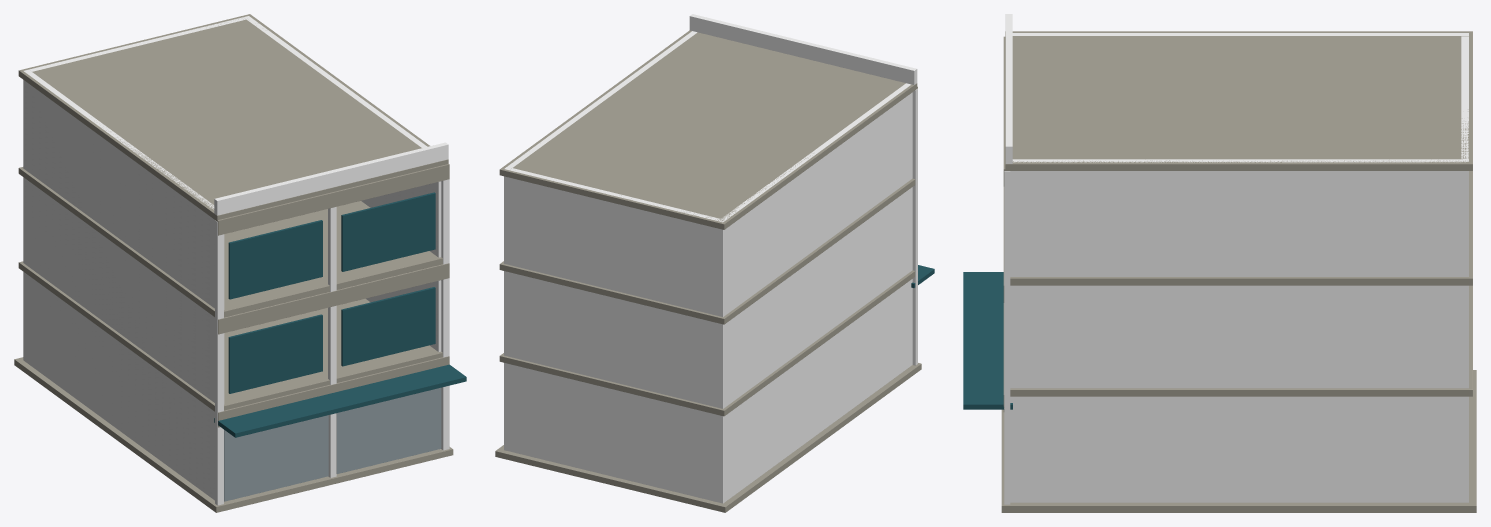
File: shoplot-building.glb
The picture shows the model from 3 angles, left to right: view 1: azimuth 30°, elevation 25°; view 2: azimuth 150°, elevation 25°; view 3: azimuth 270°, elevation 25°; orthographic projection. The views are drawn at different scales.
Visible parts, largest first — view 1: Party_Wall, Flat_Slab.002, Flat_Slab.001, Flat_Slab, Ground_Shutter, Ground_Shutter.001, Ribbon_Window.001, Ribbon_Window.002, Ribbon_Window.003, Ribbon_Window, Modern_Awning, Base (+9 smaller); view 2: Rear_Wall, Party_Wall, Flat_Slab.002, Base, Flat_Parapet, Flat_Slab.001, Flat_Slab, Party_Wall.001, Facade_Pier; view 3: Party_Wall.001, Flat_Slab.002, Base, Modern_Awning, Flat_Slab.001, Flat_Slab, Facade_Pier.002, Party_Wall, Flat_Parapet, Rear_Wall.
Part boxes in pixels (<box>): Party_Wall: <box>23,69,224,500</box>; Flat_Slab.002: <box>18,14,448,220</box>; Flat_Slab.001: <box>18,167,442,317</box>; Flat_Slab: <box>18,261,442,411</box>; Ground_Shutter: <box>224,415,328,501</box>; Ground_Shutter.001: <box>336,387,441,473</box>; Ribbon_Window.001: <box>228,220,322,299</box>; Ribbon_Window.002: <box>341,287,435,366</box>; Ribbon_Window.003: <box>341,192,435,271</box>; Ribbon_Window: <box>228,314,322,393</box>; Modern_Awning: <box>214,364,466,437</box>; Base: <box>14,357,453,512</box>; Rear_Wall: <box>509,168,720,501</box>; Party_Wall: <box>717,83,912,503</box>; Flat_Slab.002: <box>499,30,917,229</box>; Base: <box>495,363,921,512</box>; Flat_Parapet: <box>689,14,917,84</box>; Flat_Slab.001: <box>499,178,915,324</box>; Flat_Slab: <box>499,270,915,416</box>; Party_Wall.001: <box>504,31,697,451</box>; Facade_Pier: <box>912,88,917,365</box>; Party_Wall.001: <box>1010,159,1468,502</box>; Flat_Slab.002: <box>1005,31,1472,170</box>; Base: <box>1001,370,1476,512</box>; Modern_Awning: <box>963,272,1012,409</box>; Flat_Slab.001: <box>1010,171,1472,285</box>; Flat_Slab: <box>1010,285,1472,396</box>; Facade_Pier.002: <box>1004,171,1010,504</box>; Party_Wall: <box>1012,33,1468,35</box>; Flat_Parapet: <box>1005,14,1012,163</box>; Rear_Wall: <box>1461,36,1468,159</box>.
Size of the model in its own units: 8.4 by 10.5 by 13.4.
